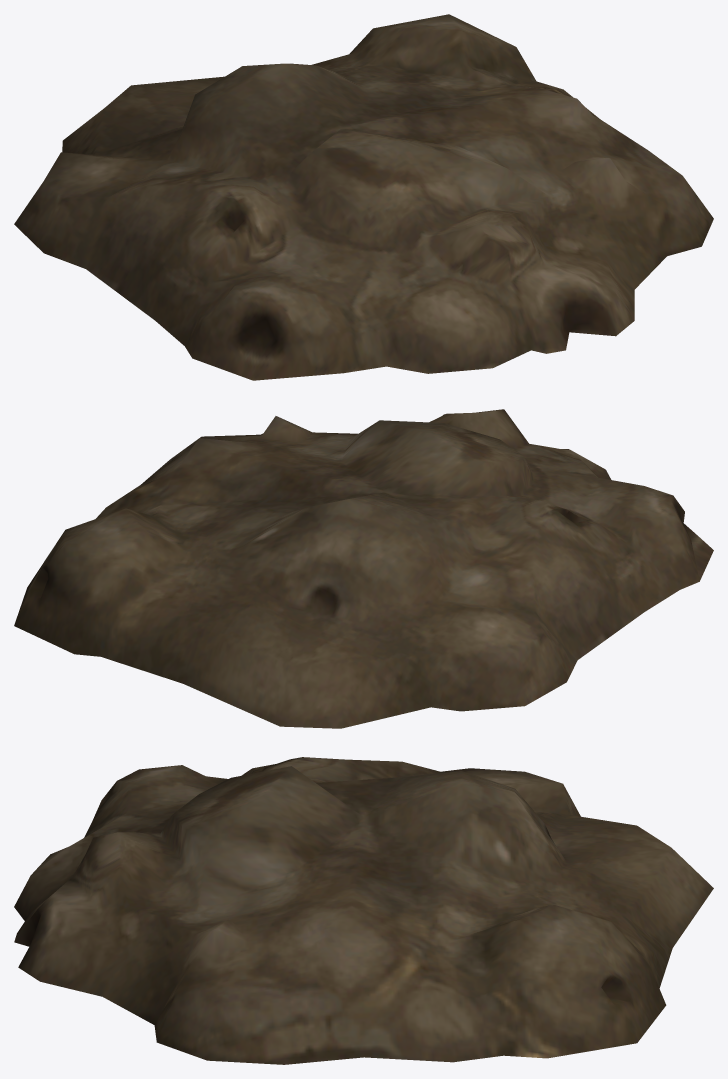
File: nashgar_object_ant_tunnel_03.FBX
3 renders of one model, top to bottom at view 1: azimuth 30°, elevation 25°; view 2: azimuth 150°, elevation 25°; view 3: azimuth 270°, elevation 25°, orthographic. The views are drawn at different scales.
Parts seen in each view (by area): view 1: nashgar_object_ant_tunnel_03; view 2: nashgar_object_ant_tunnel_03; view 3: nashgar_object_ant_tunnel_03.
Boxes of the visible parts, x1,y1,x2,y2 form: nashgar_object_ant_tunnel_03: (14, 14, 713, 380); nashgar_object_ant_tunnel_03: (14, 409, 713, 728); nashgar_object_ant_tunnel_03: (14, 757, 713, 1064).
Size of the model in its own units: 6.21 by 1.45 by 6.97.
